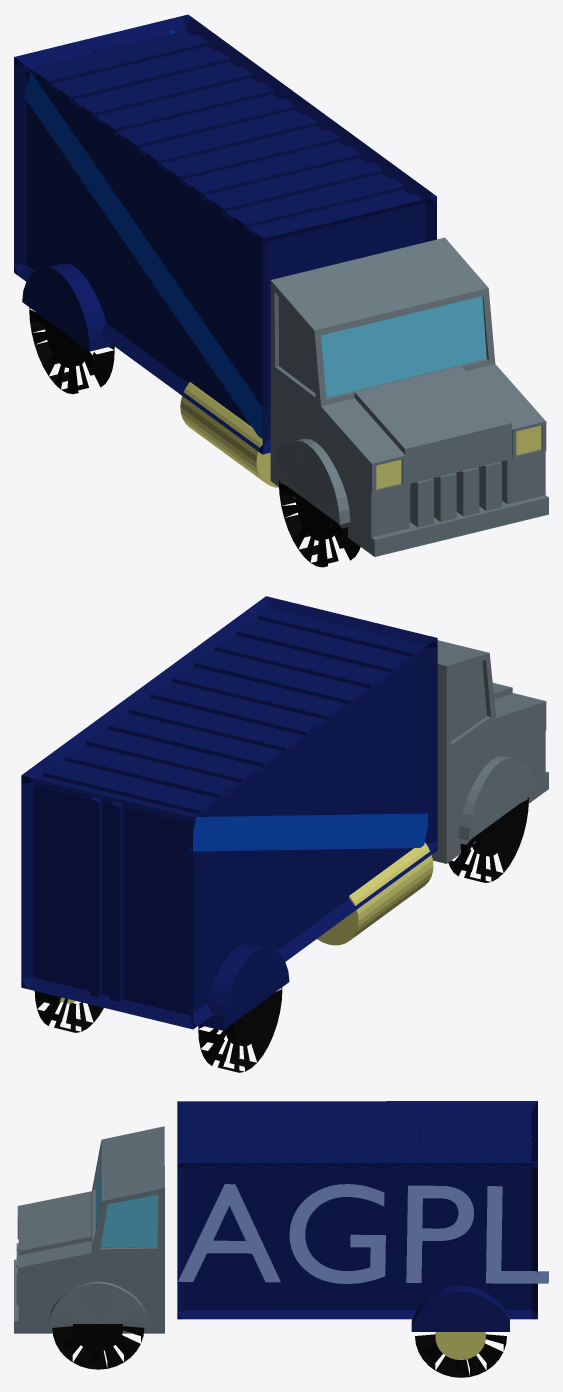
The model's file is Freight.glb.
3 renders of one model, top to bottom at view 1: azimuth 30°, elevation 25°; view 2: azimuth 150°, elevation 25°; view 3: azimuth 270°, elevation 25°, orthographic. The views are drawn at different scales.
Parts seen in each view (by area): view 1: Text; view 2: Text; view 3: Text.
Boxes of the visible parts, x1,y1,x2,y2 form: Text: (14, 14, 548, 567); Text: (21, 596, 548, 1072); Text: (14, 1101, 548, 1377).
Bounding box in the file's own units: 0.7895 × 1.13 × 2.58.
